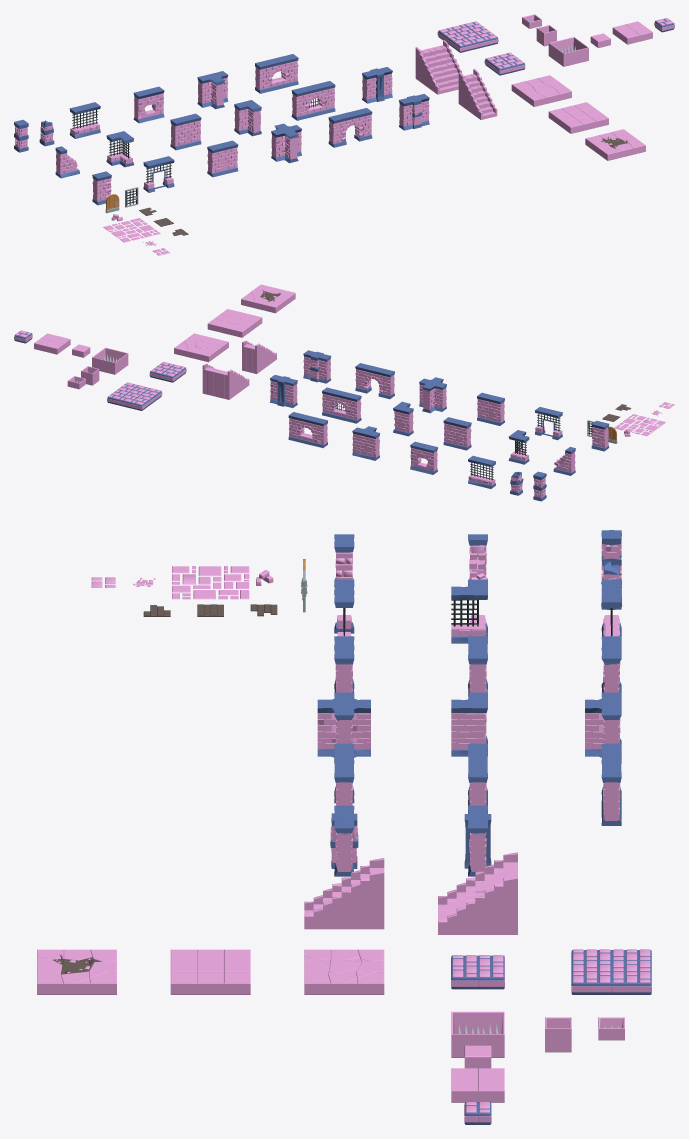
Rendered from Dungeon.fbx.
The picture shows the model from 3 angles, top to bottom: view 1: azimuth 30°, elevation 25°; view 2: azimuth 150°, elevation 25°; view 3: azimuth 270°, elevation 25°; orthographic projection. The views are drawn at different scales.
Visible parts, largest first — view 1: stairs_wide, wall_windowGate, wall_window, stairs, tileBrickB_large, tileBrickB_largeCrackedB, tileBrickB_largeCrackedA, tileBrickA_large, wall_door, wallIntersection, wallSplit, wallDecorationB (+15 smaller); view 2: stairs_wide, wall_windowGate, wall_window, tileBrickB_large, tileBrickB_largeCrackedB, tileBrickB_largeCrackedA, wall_door, tileBrickA_large, wallIntersection, wallSplit, stairs, wallDecorationB (+15 smaller); view 3: stairs_wide, stairs, tileBrickB_large, tileBrickB_largeCrackedA, tileBrickA_large, tileBrickB_largeCrackedB, wallIntersection, floorDecoration_tilesLarge, tileSpikes_large, wallSplit, wallCorner, tileBrickA_medium (+14 smaller).
Boxes of the visible parts, x1=… form: stairs_wide: x1=415, y1=40, x2=461, y2=94; wall_windowGate: x1=291, y1=81, x2=335, y2=120; wall_window: x1=255, y1=54, x2=298, y2=93; stairs: x1=458, y1=69, x2=497, y2=119; tileBrickB_large: x1=548, y1=102, x2=608, y2=133; tileBrickB_largeCrackedB: x1=585, y1=129, x2=645, y2=160; tileBrickB_largeCrackedA: x1=511, y1=75, x2=571, y2=106; tileBrickA_large: x1=437, y1=21, x2=498, y2=52; wall_door: x1=328, y1=108, x2=372, y2=147; wallIntersection: x1=271, y1=123, x2=301, y2=163; wallSplit: x1=197, y1=71, x2=228, y2=109; wallDecorationB: x1=362, y1=67, x2=392, y2=103; stairs_wide: x1=202, y1=363, x2=249, y2=399; wall_windowGate: x1=322, y1=387, x2=361, y2=423; wall_window: x1=288, y1=412, x2=327, y2=447; tileBrickB_large: x1=207, y1=309, x2=262, y2=337; tileBrickB_largeCrackedB: x1=241, y1=284, x2=295, y2=313; tileBrickB_largeCrackedA: x1=174, y1=333, x2=228, y2=362; wall_door: x1=355, y1=363, x2=394, y2=399; tileBrickA_large: x1=107, y1=382, x2=162, y2=410; wallIntersection: x1=419, y1=377, x2=446, y2=413; wallSplit: x1=352, y1=426, x2=380, y2=460; stairs: x1=242, y1=340, x2=276, y2=373; wallDecorationB: x1=270, y1=375, x2=297, y2=407; stairs_wide: x1=438, y1=852, x2=517, y2=934; stairs: x1=304, y1=858, x2=384, y2=929; tileBrickB_large: x1=170, y1=949, x2=250, y2=994; tileBrickB_largeCrackedA: x1=304, y1=949, x2=384, y2=994; tileBrickA_large: x1=571, y1=949, x2=651, y2=994; tileBrickB_largeCrackedB: x1=37, y1=949, x2=116, y2=994; wallIntersection: x1=317, y1=692, x2=370, y2=763; floorDecoration_tilesLarge: x1=172, y1=566, x2=249, y2=599; tileSpikes_large: x1=451, y1=1011, x2=504, y2=1057; wallSplit: x1=585, y1=692, x2=621, y2=763; wallCorner: x1=451, y1=692, x2=487, y2=756; tileBrickA_medium: x1=451, y1=955, x2=504, y2=989.
Bounding box in the file's own units: 9893 × 570 × 4603.
